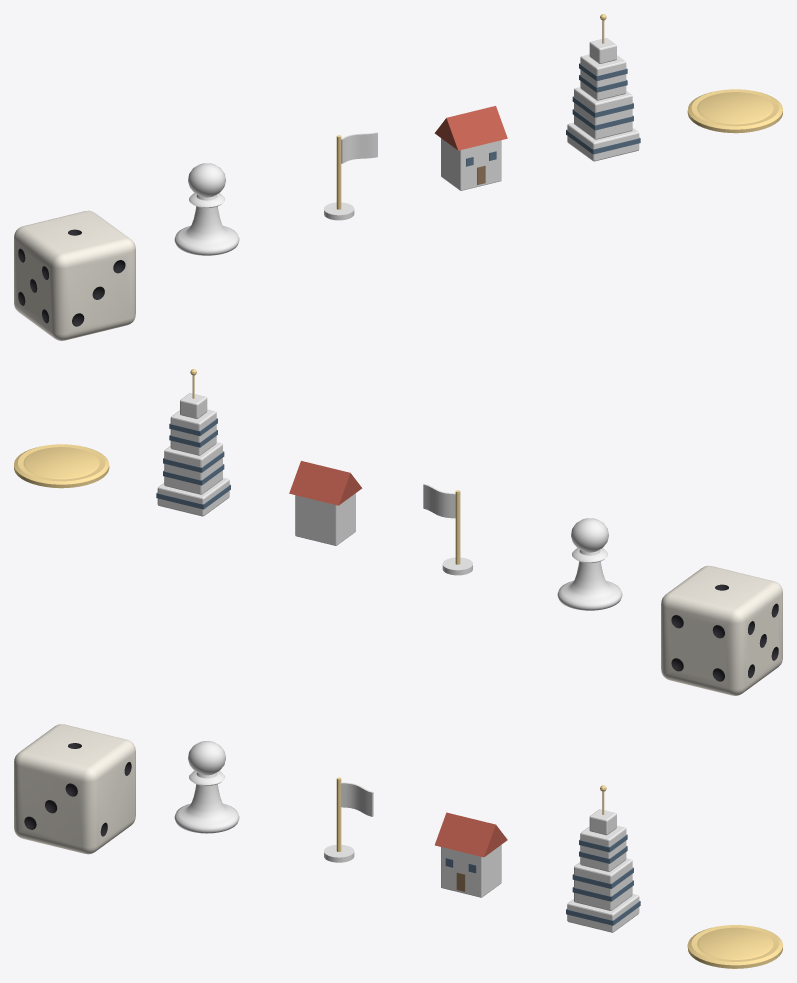
Rendered from pieces.glb.
3 renders of one model, top to bottom at view 1: azimuth 30°, elevation 25°; view 2: azimuth 150°, elevation 25°; view 3: azimuth 330°, elevation 25°, orthographic.
Visible parts, largest first — view 1: Die, Enterprise, Branch, Pawn, Coin, PlotFlag; view 2: Die, Enterprise, Branch, Pawn, Coin, PlotFlag; view 3: Die, Enterprise, Branch, Pawn, Coin, PlotFlag.
Part boxes in pixels (x1=…): Die: x1=14, y1=210, x2=135, y2=340; Enterprise: x1=566, y1=14, x2=640, y2=161; Branch: x1=434, y1=106, x2=507, y2=190; Pawn: x1=174, y1=163, x2=239, y2=255; Coin: x1=687, y1=89, x2=782, y2=133; PlotFlag: x1=324, y1=132, x2=377, y2=220; Die: x1=661, y1=565, x2=782, y2=695; Enterprise: x1=156, y1=369, x2=230, y2=516; Branch: x1=289, y1=461, x2=362, y2=545; Pawn: x1=557, y1=518, x2=622, y2=610; Coin: x1=14, y1=444, x2=109, y2=488; PlotFlag: x1=423, y1=484, x2=472, y2=575; Die: x1=14, y1=724, x2=135, y2=854; Enterprise: x1=566, y1=785, x2=640, y2=932; Branch: x1=435, y1=812, x2=507, y2=897; Pawn: x1=174, y1=741, x2=239, y2=833; Coin: x1=687, y1=925, x2=782, y2=968; PlotFlag: x1=324, y1=777, x2=373, y2=862.
Bounding box in the file's own units: 9 × 2.03 × 1.
